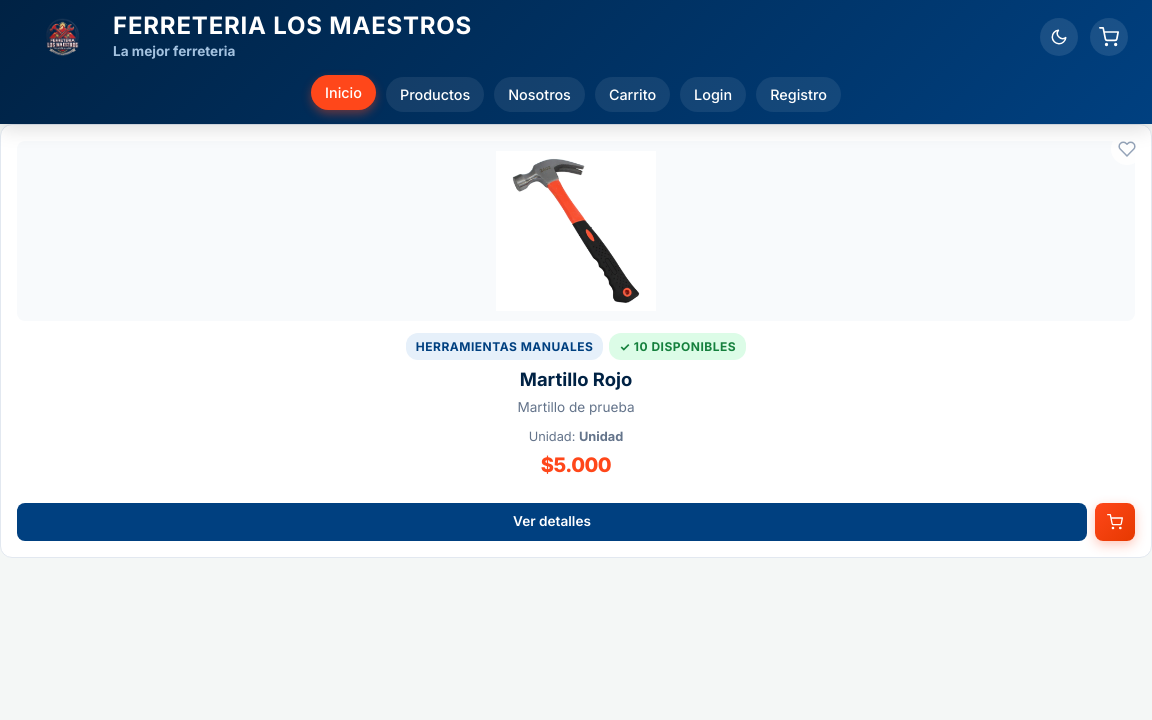
Test: Pruebas 4 y 5: Carrito de Compras, Contador y Totales › debe agregar un producto al carrito y verificar el incremento del contador en el Navbar
Click the button named "Añadir Martillo Rojo al carrito" at (1115, 522), box [1095,503,1135,541]
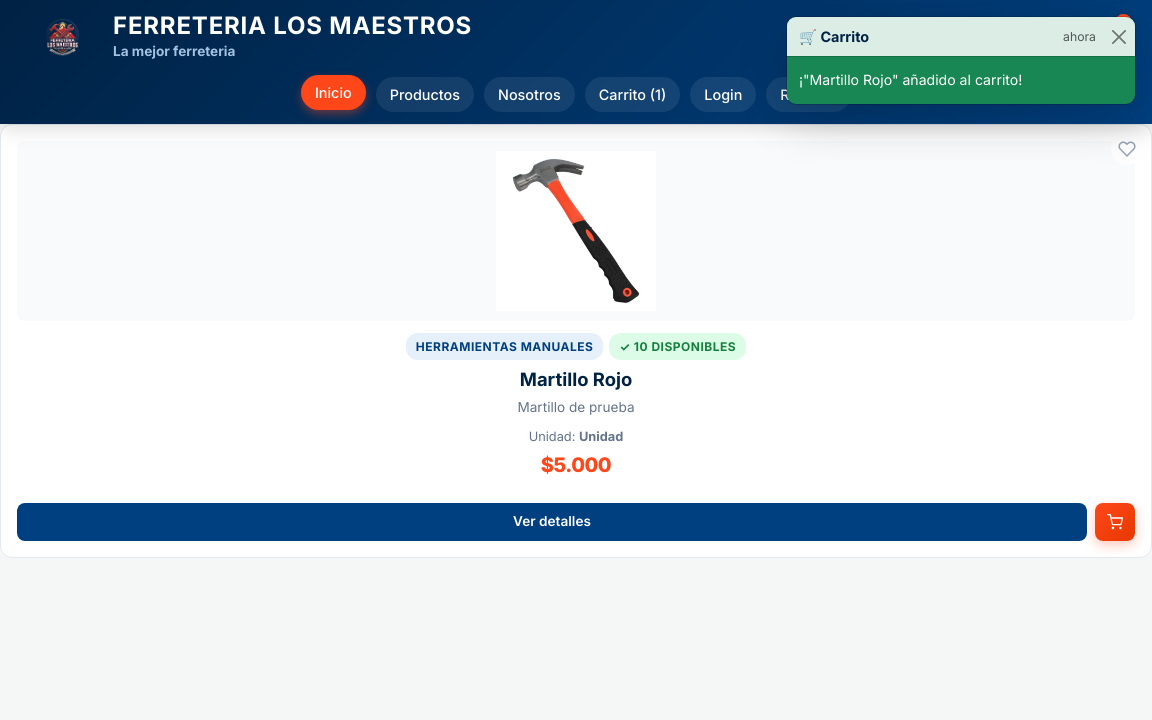
Result: the text "1" is shown at [1115,14,1132,35]
Result: the text with test id "cart-badge" reads "1" at [1121,17,1126,31]
